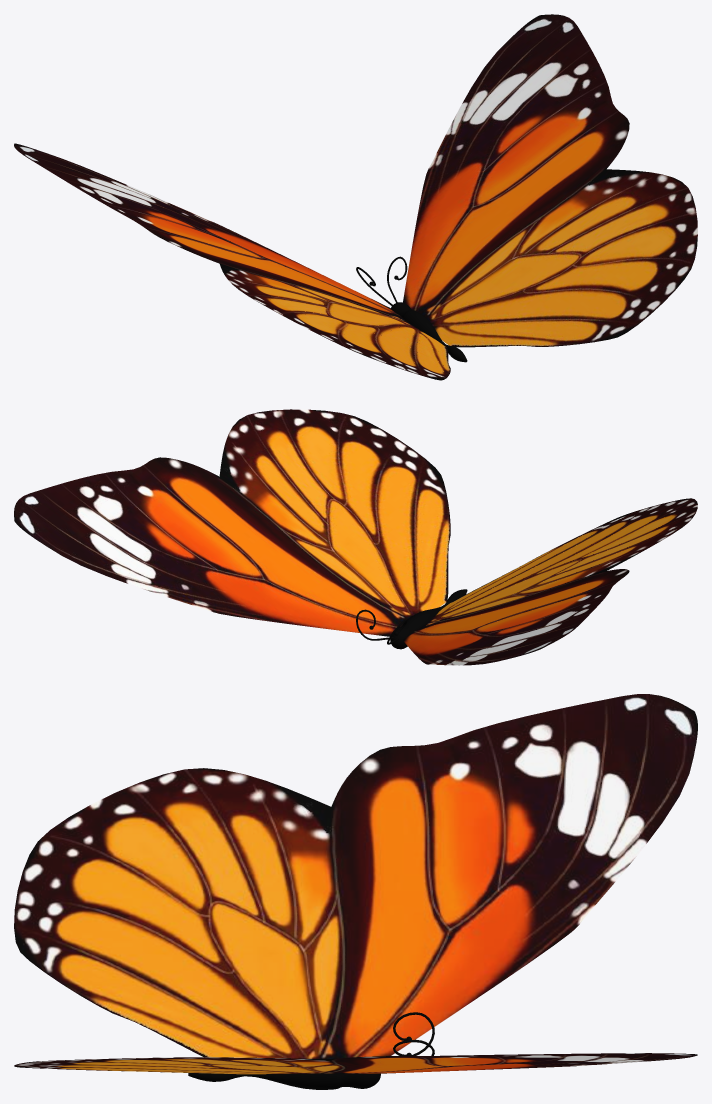
The model's file is byttt.obj.
3 views of the same model, one above another, from view 1: azimuth 30°, elevation 25°; view 2: azimuth 150°, elevation 25°; view 3: azimuth 270°, elevation 25° (orthographic). The views are drawn at different scales.
Parts seen in each view (by area): view 1: polySurface14; view 2: polySurface14; view 3: polySurface14.
Part boxes in pixels (x1,y1,x2,y2): polySurface14: (14,14,697,380); polySurface14: (14,409,697,665); polySurface14: (14,694,697,1089).
Bounding box in the file's own units: 33.74 × 9.42 × 27.17.
